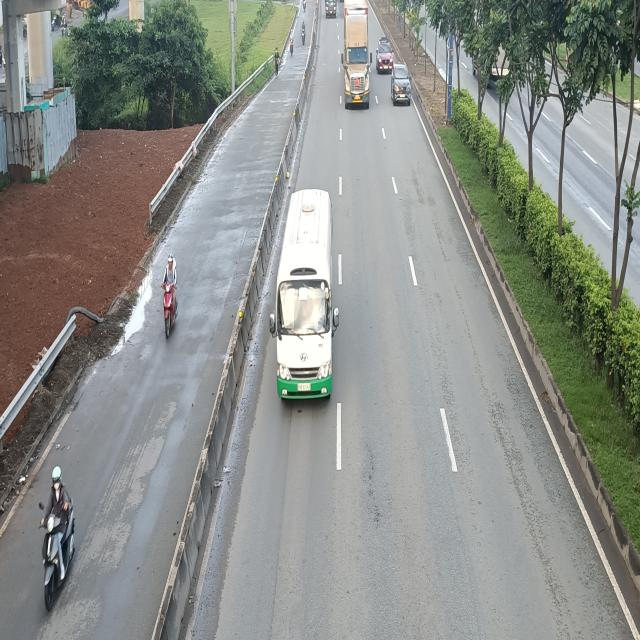car: (391, 64, 412, 107), (377, 37, 395, 73)
coach: (270, 188, 340, 404)
container: (342, 1, 372, 110)
